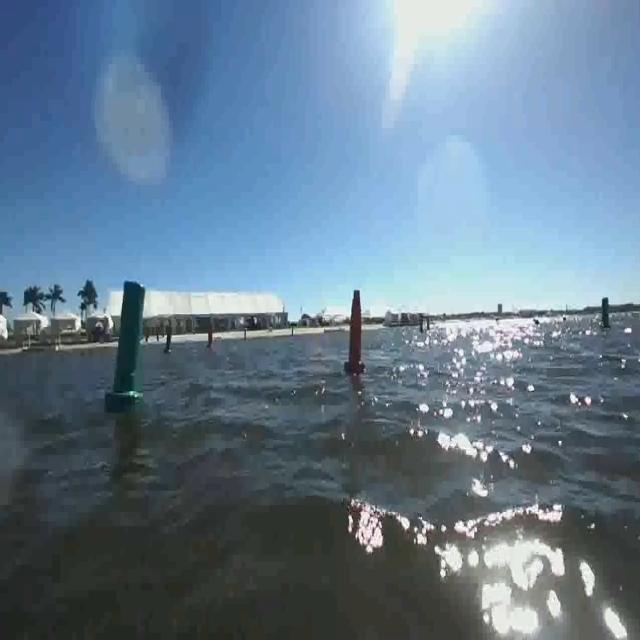green-column-buoy: (109, 280, 151, 410), (599, 296, 612, 332), (164, 322, 176, 354)
red-column-buoy: (346, 288, 366, 374), (207, 326, 216, 350)
